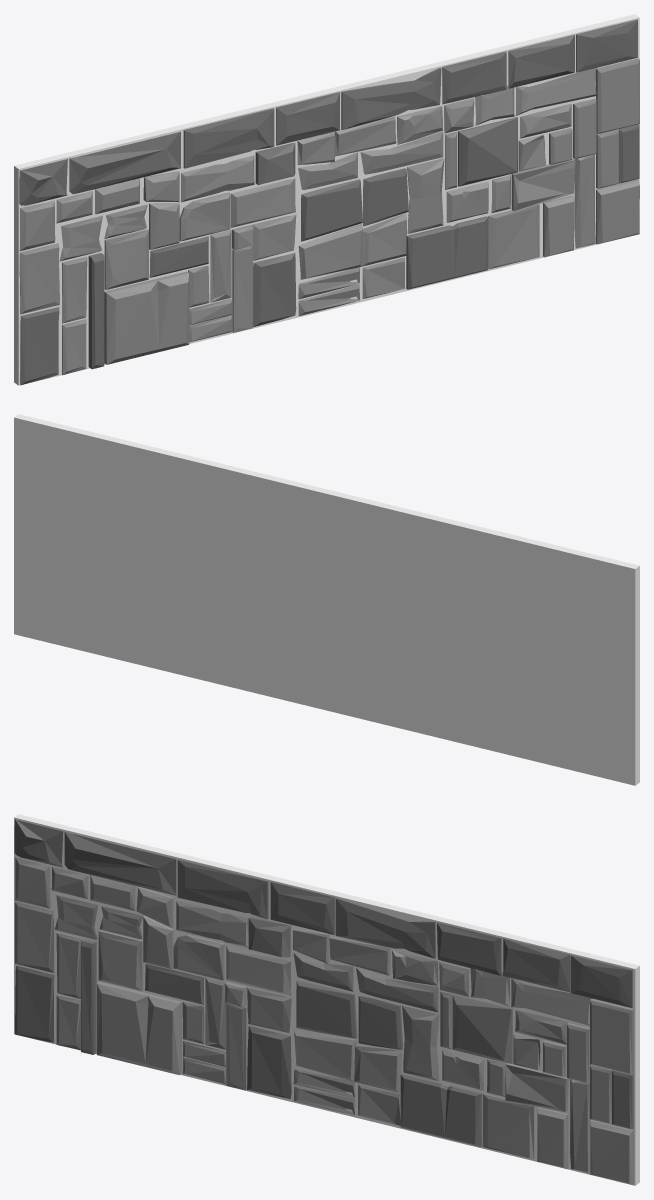
The model's file is _FOUNDATION_02_1.glb.
3 renders of one model, top to bottom at view 1: azimuth 30°, elevation 25°; view 2: azimuth 150°, elevation 25°; view 3: azimuth 330°, elevation 25°, orthographic.
Parts seen in each view (by area): view 1: FOUNDATION_02_1; view 2: FOUNDATION_02_1; view 3: FOUNDATION_02_1.
Boxes of the visible parts, x1,y1,x2,y2 form: FOUNDATION_02_1: (14, 14, 639, 385); FOUNDATION_02_1: (14, 414, 639, 785); FOUNDATION_02_1: (14, 814, 639, 1185).
Size of the model in its own units: 3 by 1 by 0.0856.
1 material, 1 textured.
